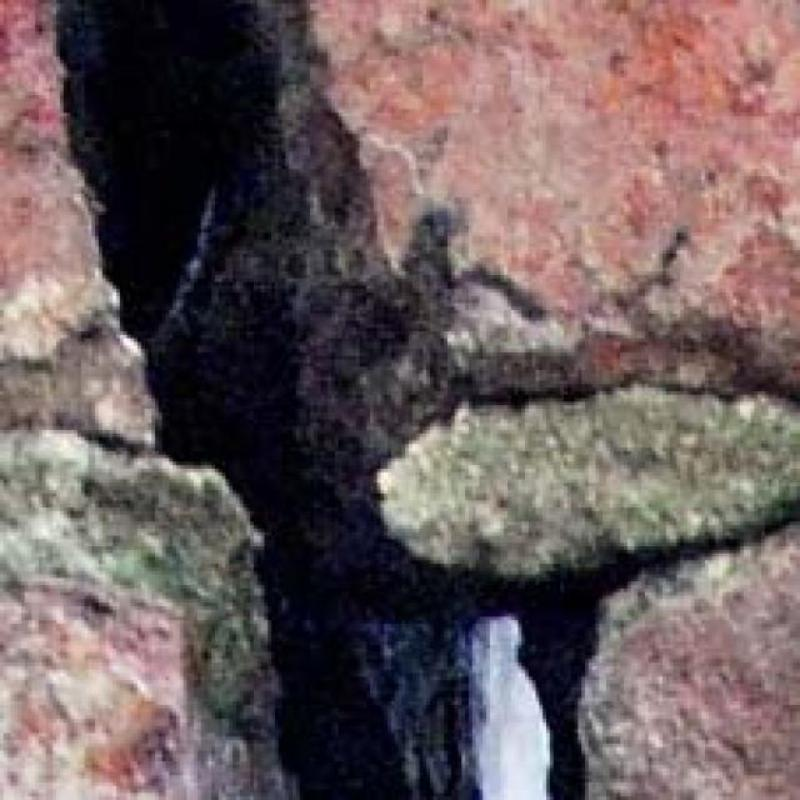pothole: (61, 0, 799, 799)
